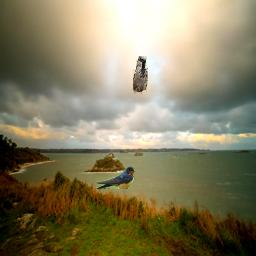Sparrow: (133, 55, 148, 95)
Swallow: (96, 166, 136, 189)
